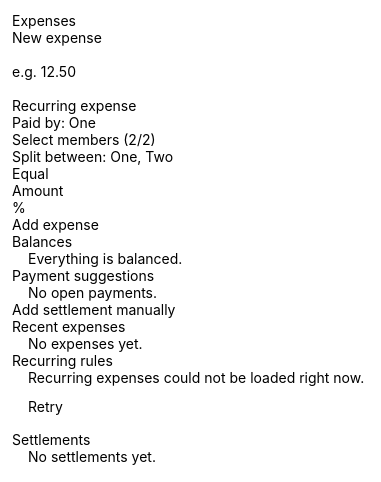
it: ExpensesScreen recurring expenses › shows a dedicated recurring load failure state and retries it through screen reload
This screenshot has width=381, height=482.
Expected: the text "Recurring expenses could not be loaded right now." is shown, x1=28 y1=369 x2=364 y2=386
Click the button "Retry".
click(45, 406)  # box x1=28 y1=398 x2=364 y2=415
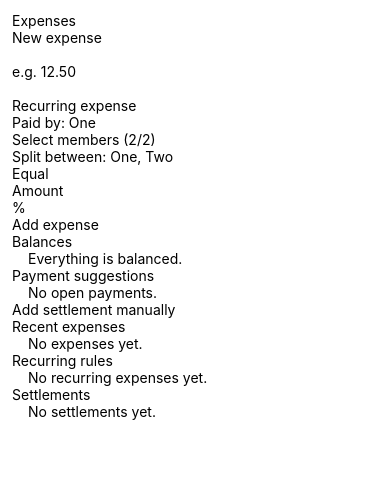
Result: the text "No recurring expenses yet." is shown at x1=28 y1=369 x2=207 y2=386
